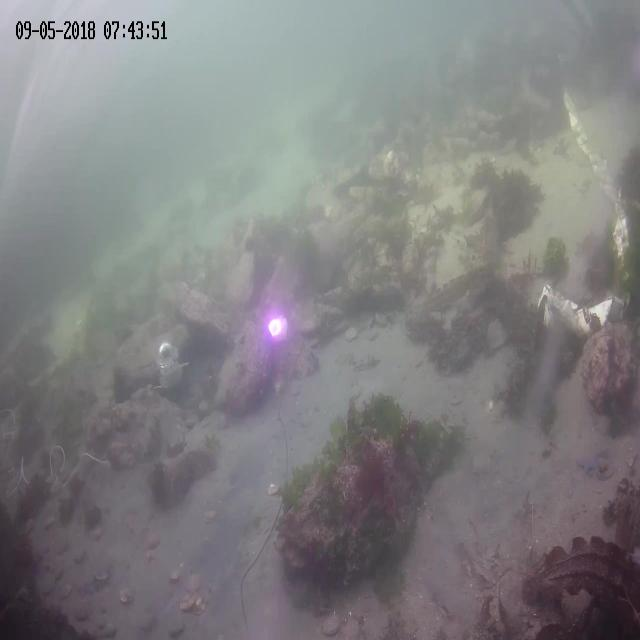scallop: (321, 610, 342, 636), (335, 618, 358, 640), (471, 452, 492, 476), (168, 560, 187, 583), (72, 603, 90, 625), (95, 566, 113, 586), (118, 586, 138, 604), (179, 592, 196, 611), (203, 506, 219, 526), (185, 574, 202, 592), (266, 479, 282, 496), (344, 323, 358, 342), (61, 577, 71, 599), (194, 598, 208, 612)
starfish: (576, 445, 600, 472), (78, 577, 90, 599)
